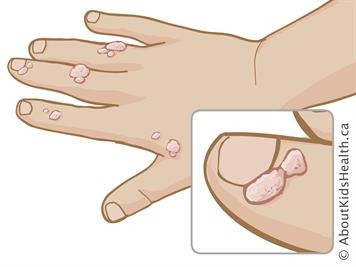Warts: (13, 38, 188, 177), (243, 141, 313, 208)
